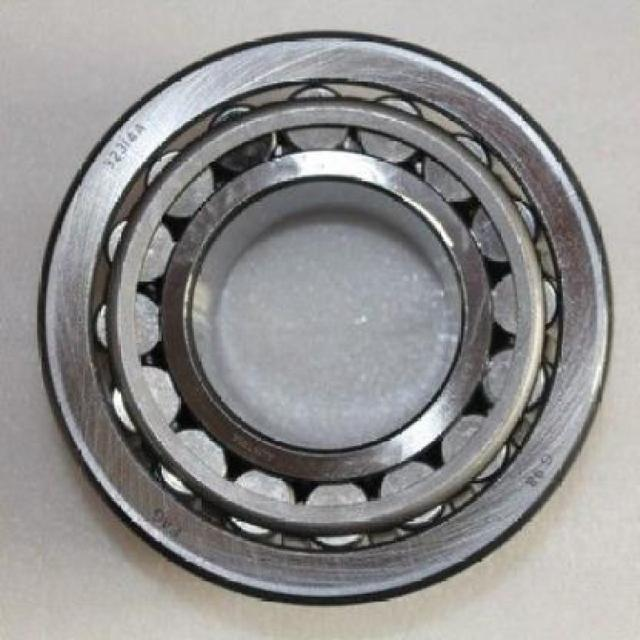Bearing: (31, 29, 614, 609)
